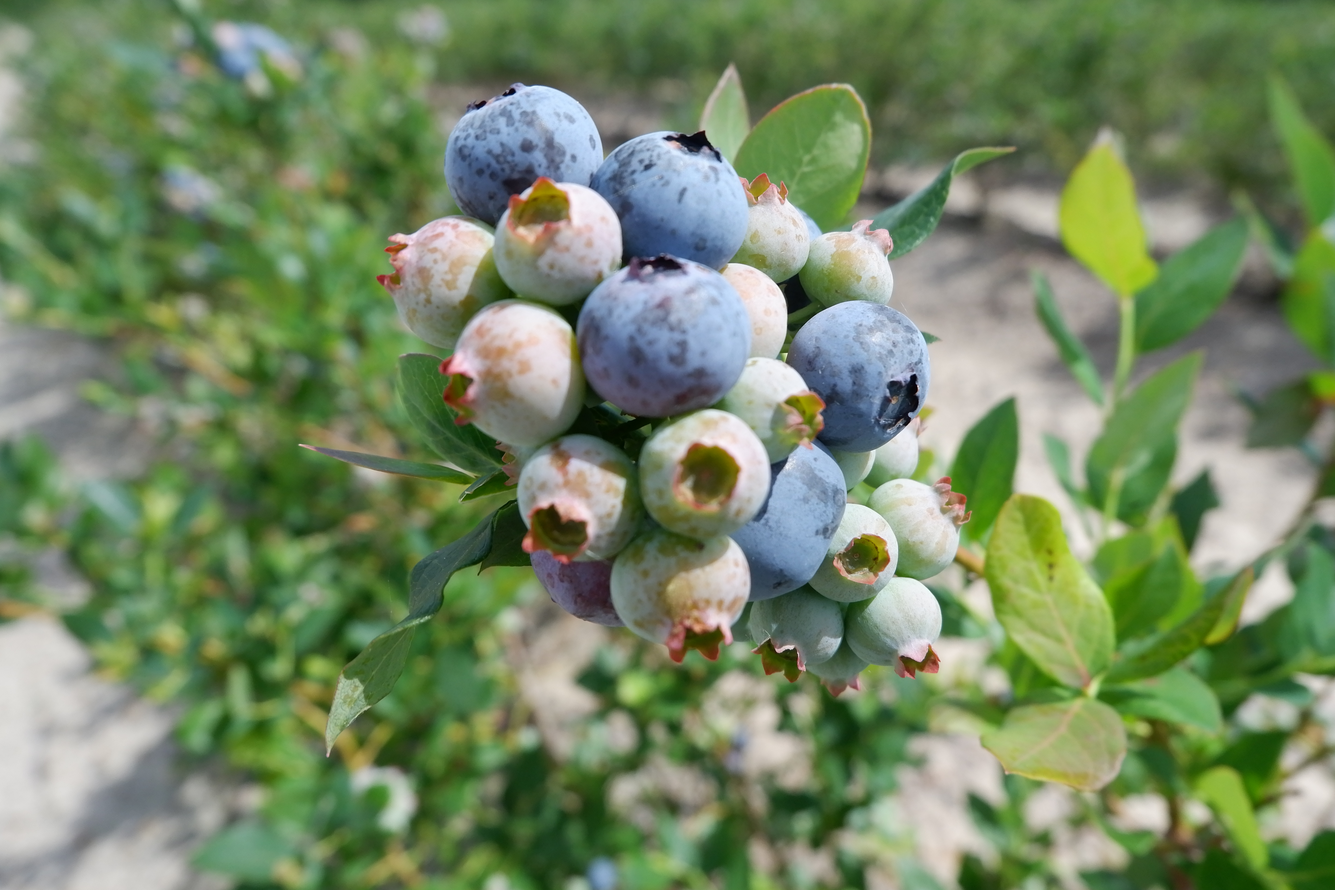Immature: (445, 302, 581, 442), (615, 530, 747, 654), (640, 413, 766, 542), (385, 216, 505, 345), (495, 180, 619, 304), (520, 439, 639, 558), (720, 361, 820, 455), (873, 480, 965, 576), (850, 581, 940, 673), (732, 175, 811, 278), (750, 588, 843, 672), (814, 507, 897, 600), (803, 226, 893, 303), (723, 264, 786, 358), (864, 425, 920, 488), (813, 639, 865, 694), (832, 447, 873, 488)
Mature: (581, 257, 746, 414), (447, 86, 600, 222), (597, 134, 748, 266), (793, 302, 927, 450), (736, 445, 845, 599), (534, 548, 622, 627), (803, 211, 823, 247)
